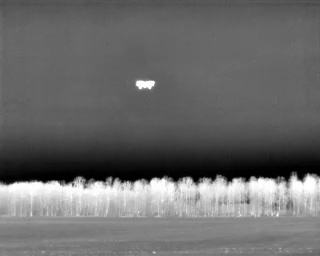DRONE: (132, 75, 159, 95)
